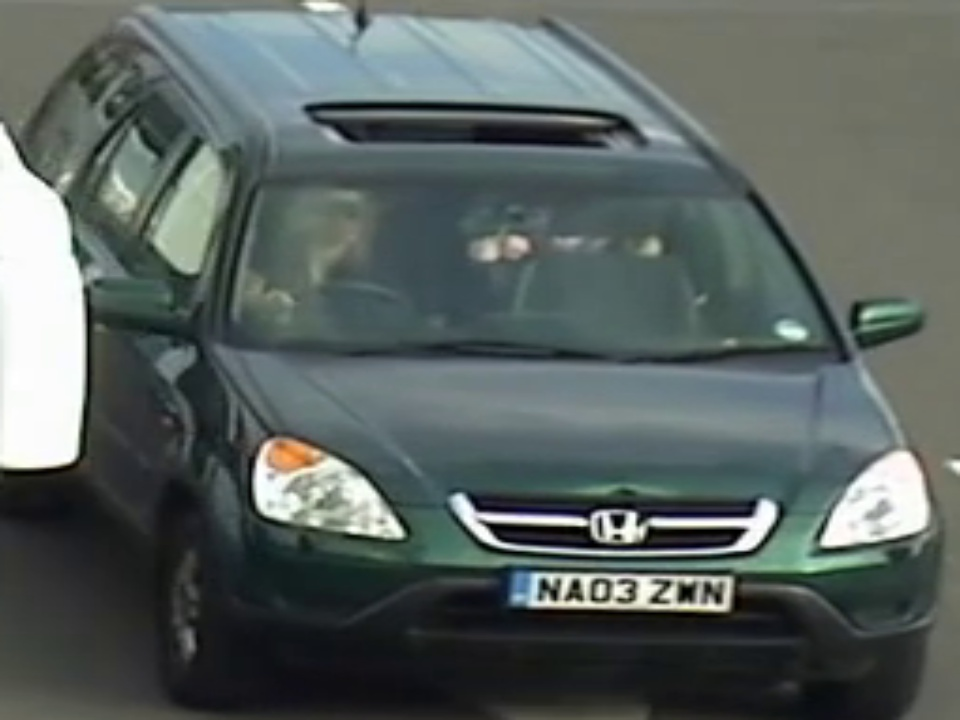ONE: (235, 173, 781, 347)
